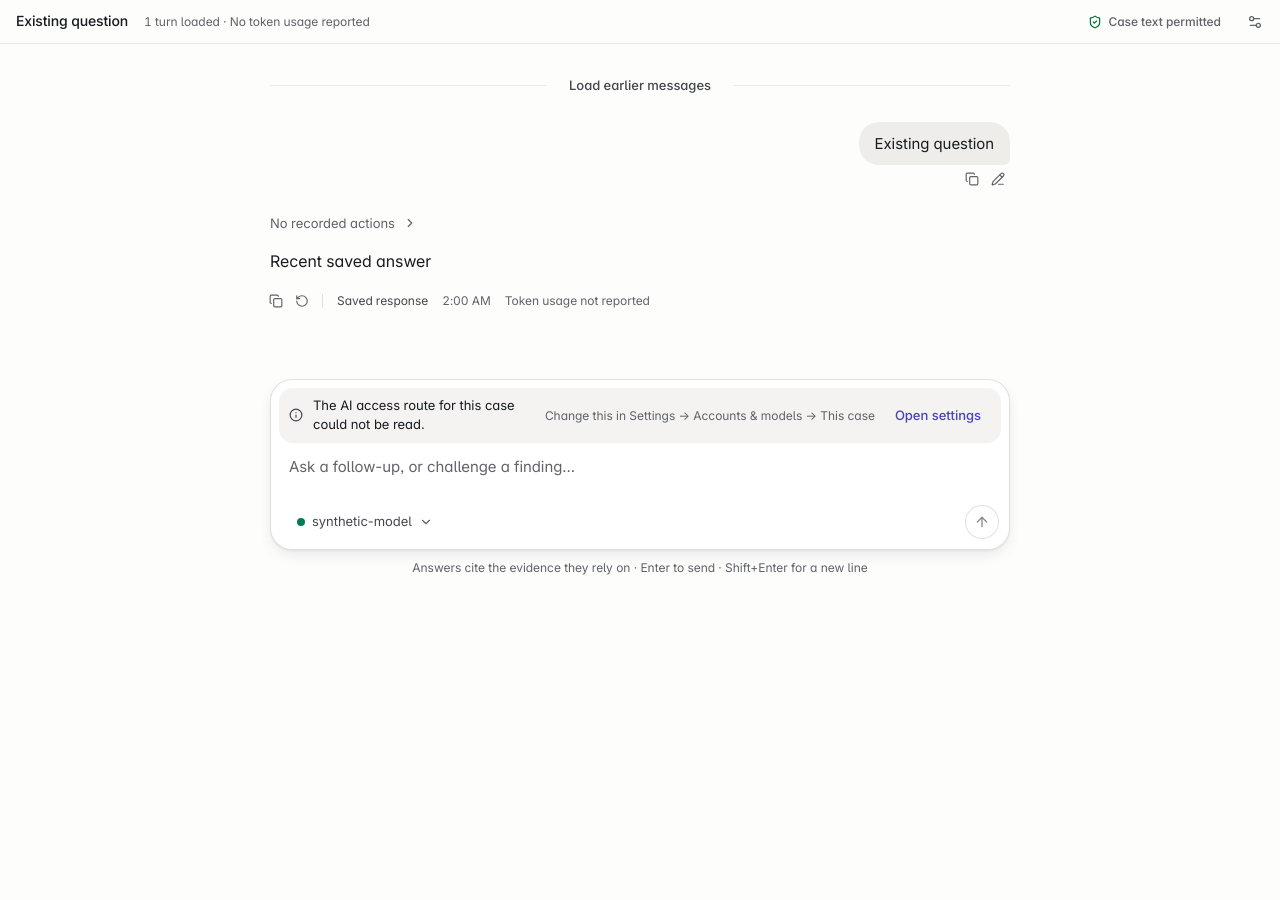
Scenario: chat composer interaction › opens older saved turns through a bounded detail page
The image size is (1280, 900).
Click the button "Load earlier messages" at (640, 85), box [559,72,721,98]
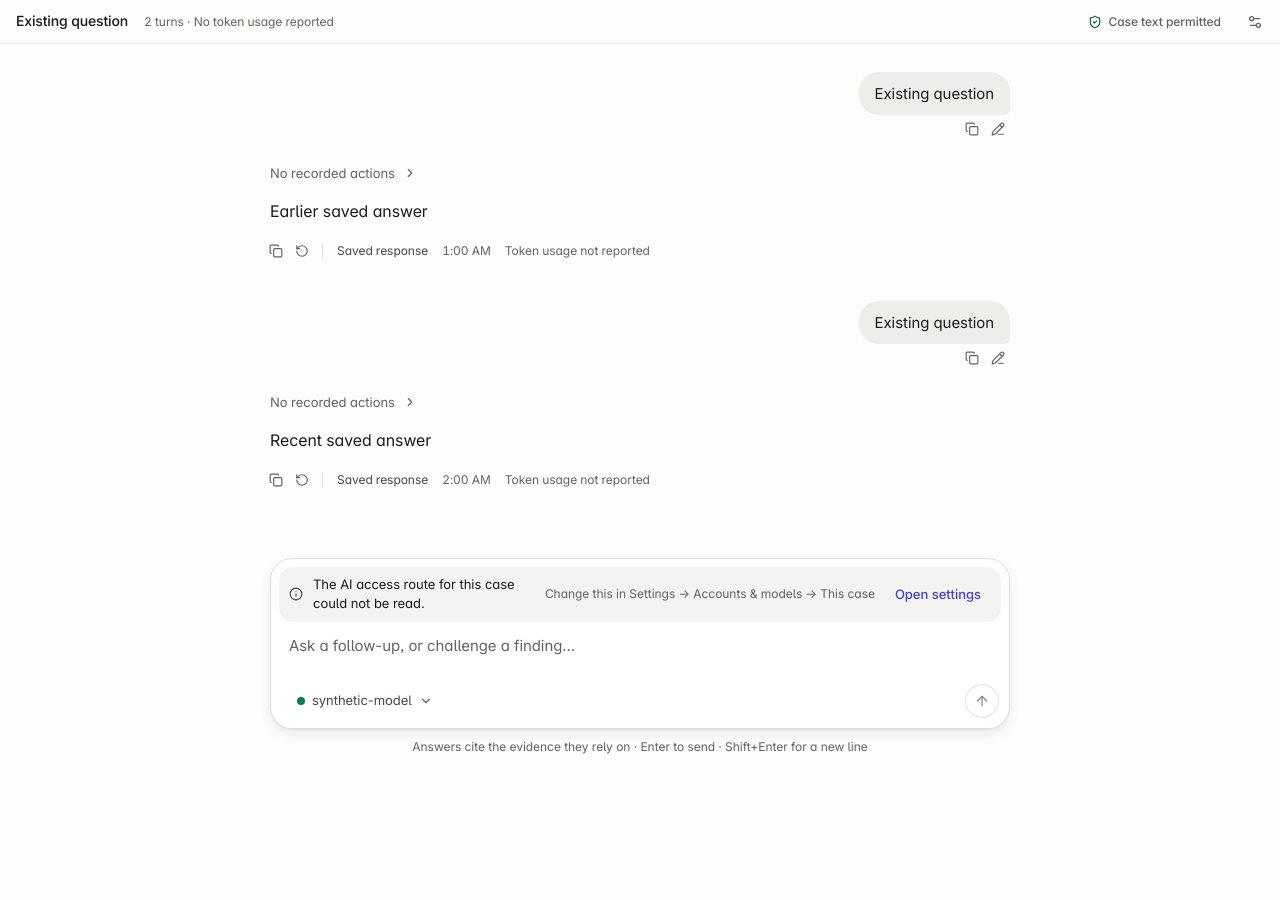
Check: the text "Recent saved answer" is shown, box [270,430,431,450]
Check: the text "Earlier saved answer" is shown, box [270,201,428,221]
Check: the button "Load earlier messages" is gone
